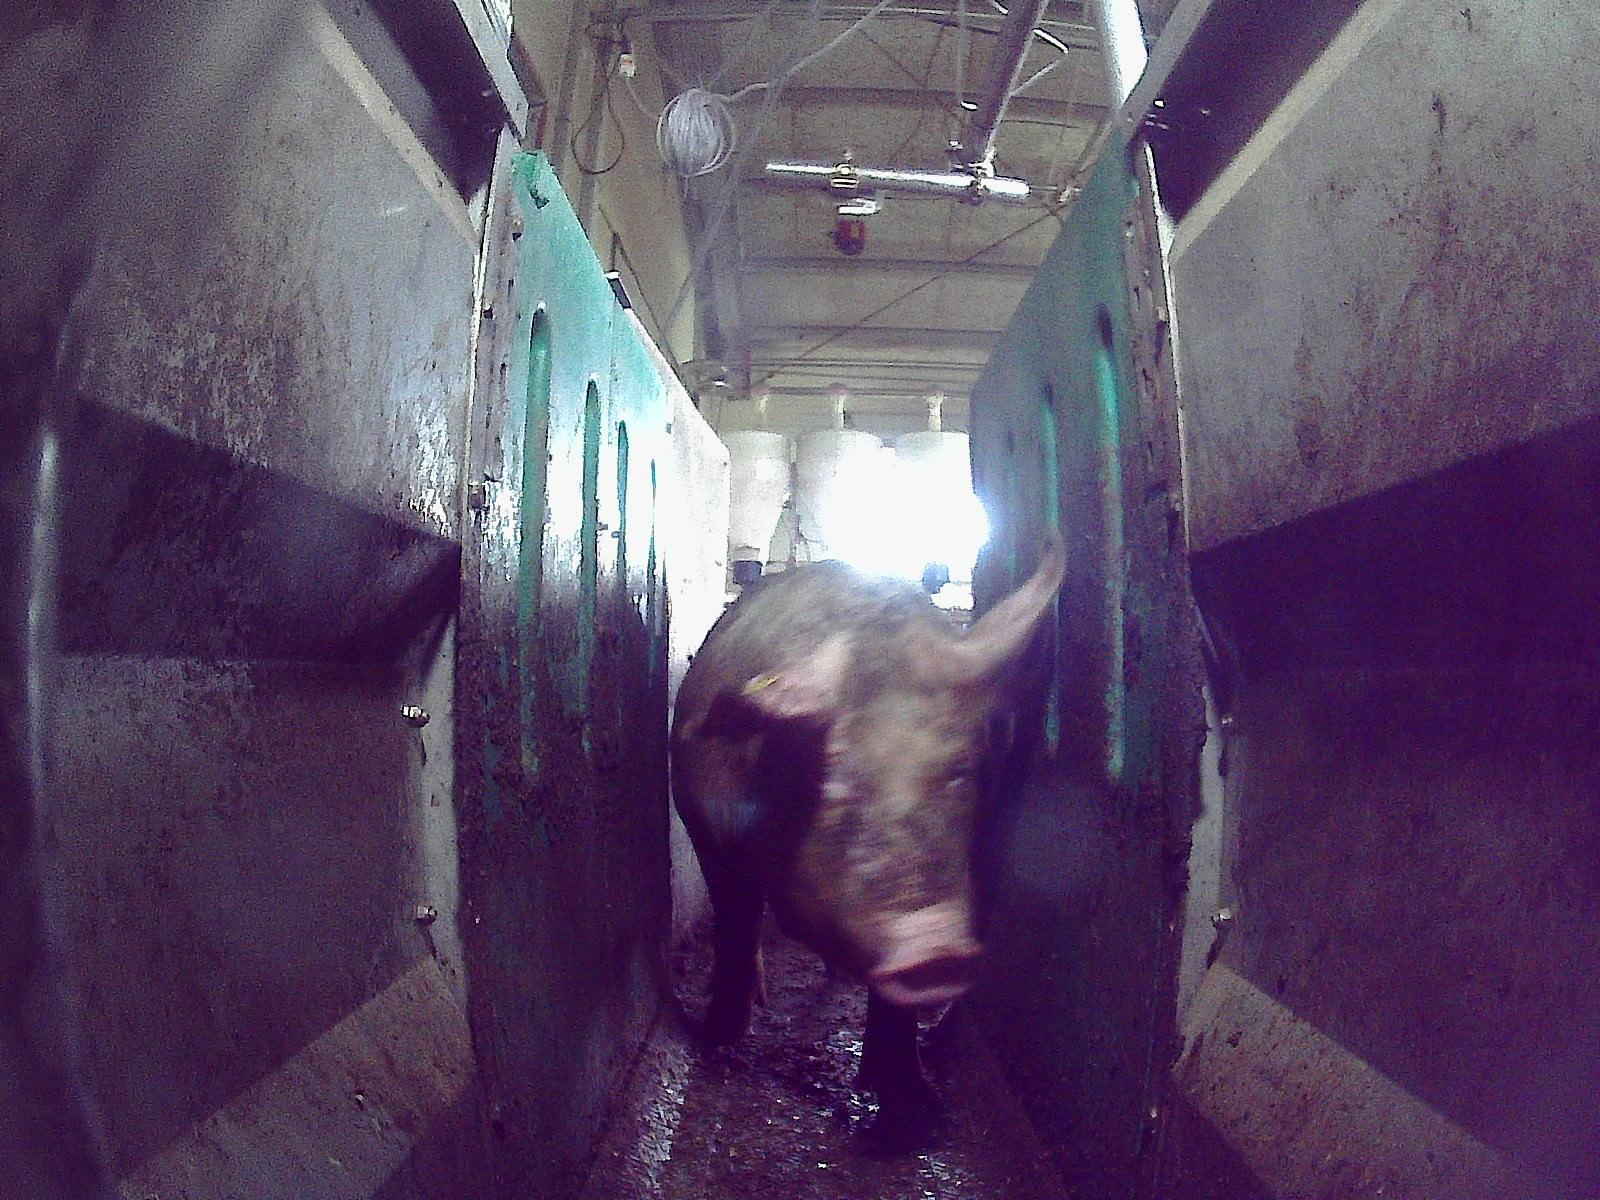Face: (781, 628, 990, 1004)
